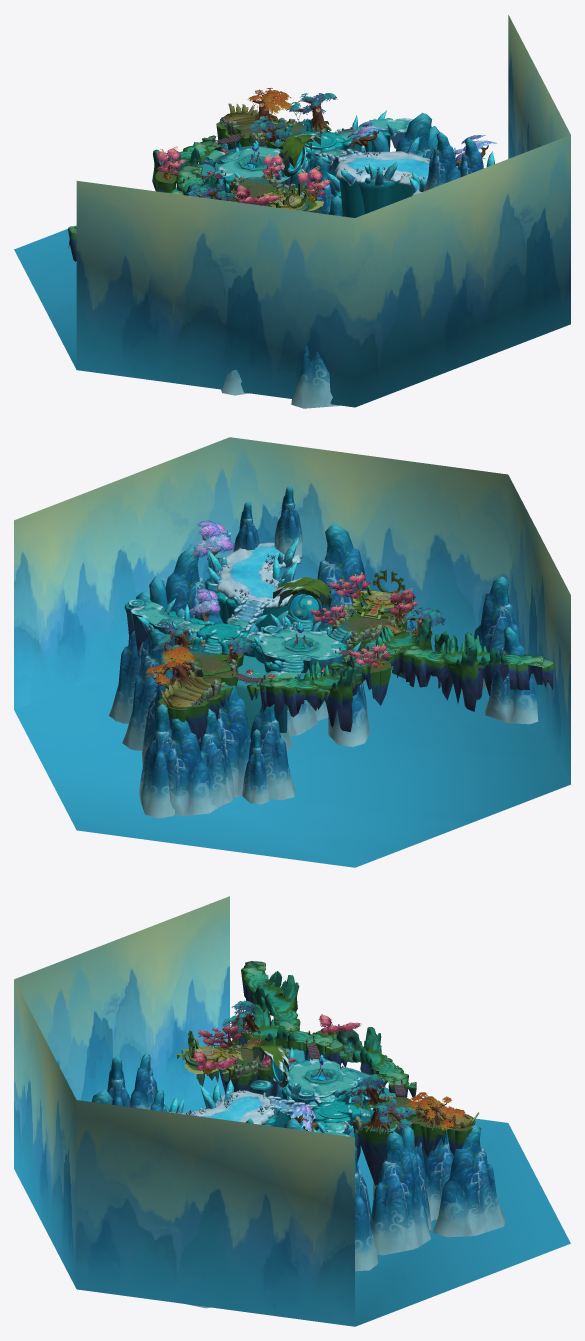
3 renders of one model, top to bottom at view 1: azimuth 30°, elevation 25°; view 2: azimuth 150°, elevation 25°; view 3: azimuth 270°, elevation 25°, orthographic.
Parts seen in each view (by area): view 1: tiankong, Box081, Object081, Object079, Object080, 4002_002, Object084, Object082, Object077; view 2: tiankong, Box081, Object079, Object081, Object084, 4002_002, Object080, Object082, Object077, Plane003; view 3: tiankong, Box081, Object079, Object081, 4002_002, Object084, Object082, Object080, Object077.
Part boxes in pixels (x1=…): tiankong: x1=14, y1=15, x2=570, y2=407; Box081: x1=204, y1=110, x2=494, y2=408; Object081: x1=156, y1=88, x2=497, y2=205; Object079: x1=68, y1=120, x2=327, y2=261; Object080: x1=161, y1=151, x2=457, y2=204; 4002_002: x1=183, y1=131, x2=323, y2=213; Object084: x1=214, y1=118, x2=431, y2=190; Object082: x1=163, y1=103, x2=326, y2=201; Object077: x1=155, y1=115, x2=327, y2=202; tiankong: x1=14, y1=437, x2=570, y2=867; Box081: x1=109, y1=485, x2=538, y2=818; Object079: x1=158, y1=617, x2=553, y2=743; Object081: x1=145, y1=520, x2=445, y2=705; Object084: x1=124, y1=578, x2=346, y2=709; 4002_002: x1=231, y1=570, x2=413, y2=684; Object080: x1=216, y1=542, x2=412, y2=667; Object082: x1=160, y1=604, x2=396, y2=708; Object077: x1=158, y1=610, x2=431, y2=710; Plane003: x1=236, y1=640, x2=393, y2=735; tiankong: x1=14, y1=896, x2=570, y2=1326; Box081: x1=54, y1=1047, x2=505, y2=1308; Object079: x1=219, y1=961, x2=475, y2=1185; Object081: x1=177, y1=1000, x2=469, y2=1134; 4002_002: x1=176, y1=1030, x2=405, y2=1097; Object084: x1=249, y1=1058, x2=358, y2=1136; Object082: x1=231, y1=1028, x2=479, y2=1133; Object080: x1=169, y1=1019, x2=341, y2=1124; Object077: x1=223, y1=1028, x2=475, y2=1132.
Bounding box in the file's own units: 123 × 49.22 × 120.
